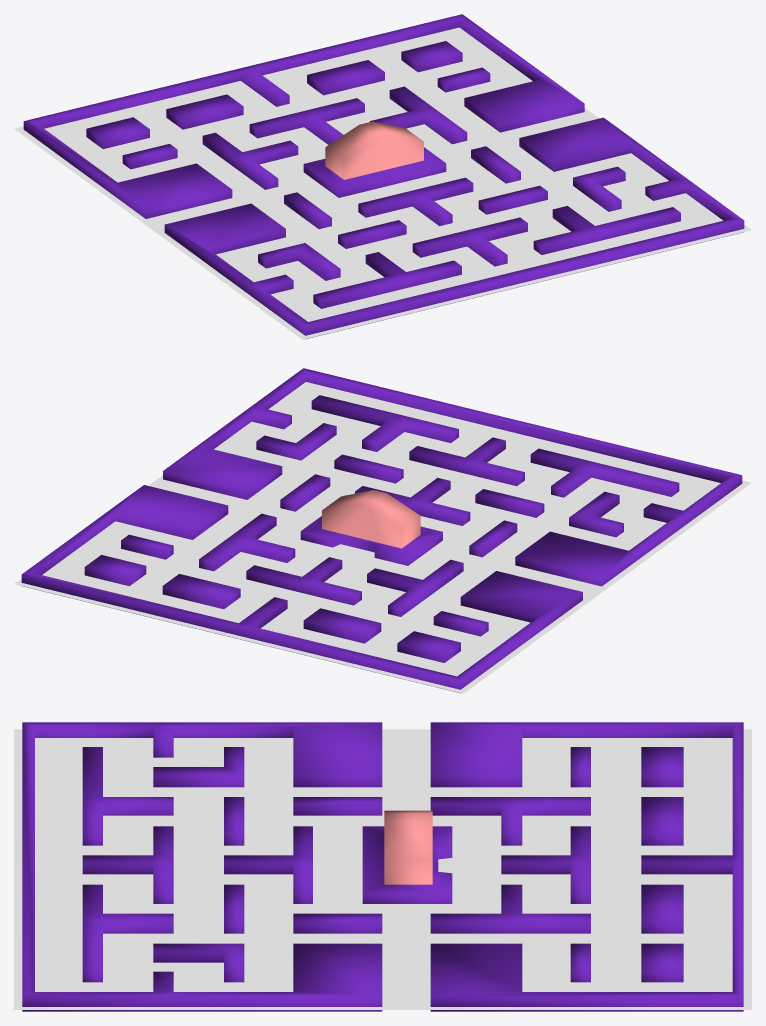
Rendered from terrain_pacman.dae.
The picture shows the model from 3 angles, top to bottom: view 1: azimuth 30°, elevation 25°; view 2: azimuth 150°, elevation 25°; view 3: azimuth 270°, elevation 25°; orthographic projection. The views are drawn at different scales.
Parts seen in each view (by area): view 1: terrain_pacman; view 2: terrain_pacman; view 3: terrain_pacman.
Part boxes in pixels (x1,y1,x2,y2): terrain_pacman: (14,14,751,339); terrain_pacman: (14,368,751,693); terrain_pacman: (14,722,751,1011).
Size of the model in its own units: 53.12 by 59.02 by 5.09.
